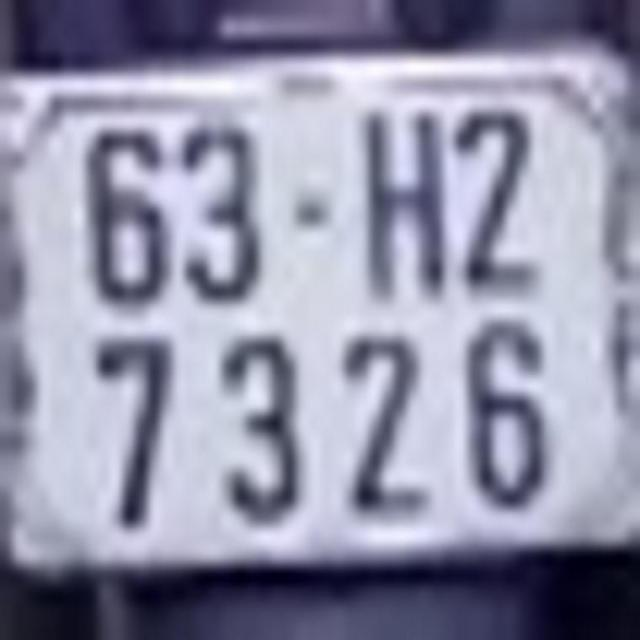2: (337, 324, 441, 516), (460, 97, 544, 290)
3: (180, 109, 272, 314), (220, 329, 310, 530)
6: (455, 312, 554, 522), (88, 119, 167, 300)
7: (82, 326, 174, 534)
H: (357, 93, 453, 298)
